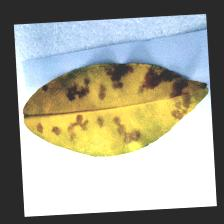black spot: (58, 62, 182, 132)
